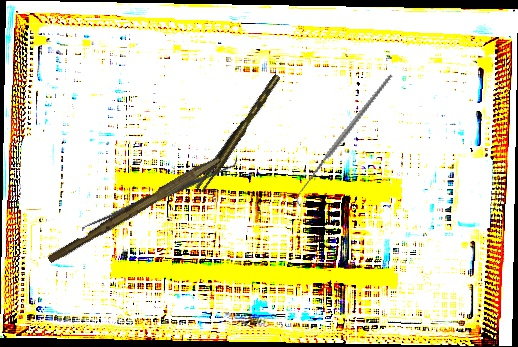Hook Surgical: (265, 72, 425, 208)
Scalpel Handle: (46, 150, 222, 268)
Spatula Surgical: (77, 154, 243, 237)
Tissue Forceps: (191, 73, 287, 194)
